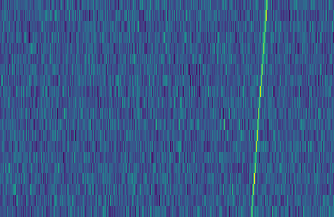signal: (248, 0, 273, 217)
